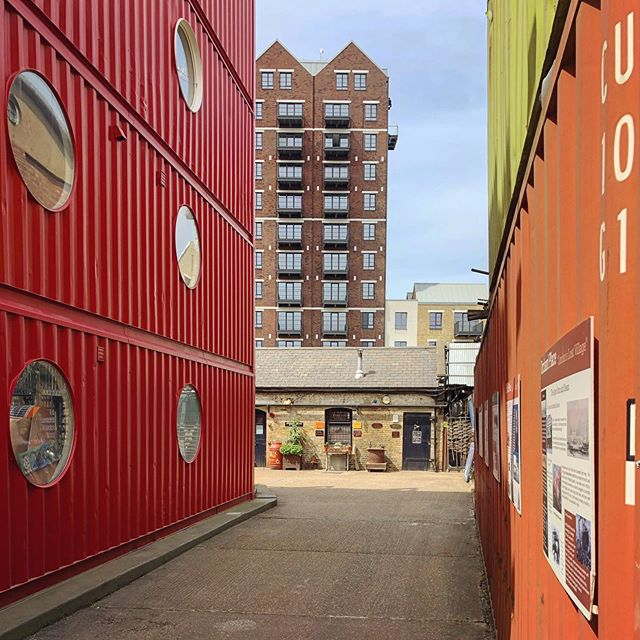building: (1, 1, 263, 510), (252, 49, 398, 347), (251, 341, 449, 472)
